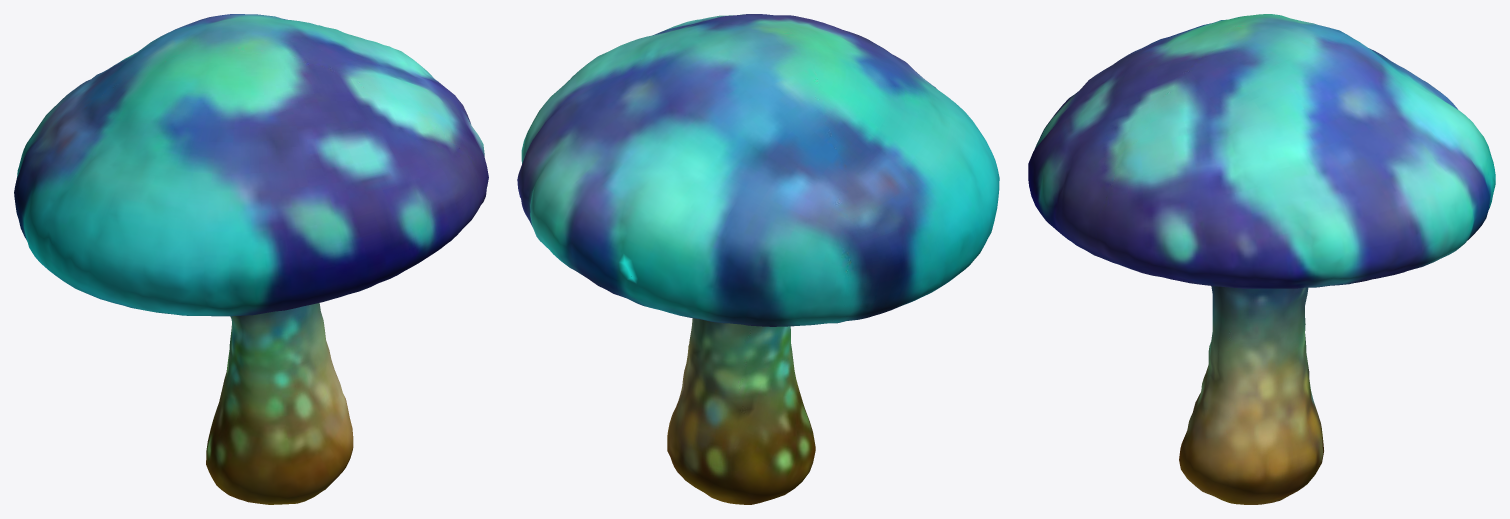
The model's file is bioluminescent_mushroom_0608030702_preview.fbx.
The picture shows the model from 3 angles, left to right: view 1: azimuth 30°, elevation 25°; view 2: azimuth 150°, elevation 25°; view 3: azimuth 270°, elevation 25°; orthographic projection. The views are drawn at different scales.
Parts seen in each view (by area): view 1: Mesh1; view 2: Mesh1; view 3: Mesh1.
Boxes of the visible parts, bbox=[...] form: Mesh1: bbox=[14, 14, 488, 504]; Mesh1: bbox=[517, 14, 999, 504]; Mesh1: bbox=[1028, 14, 1495, 504].
Bounding box in the file's own units: 111 × 120 × 111.
Materials: 1 (1 with a texture image).
